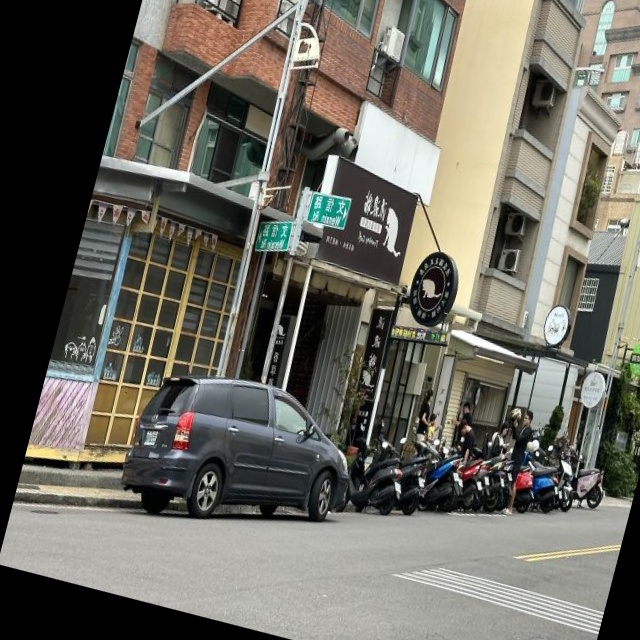Sin_Casco_Mascarrilla: (522, 409, 534, 427), (456, 418, 468, 436), (499, 420, 510, 439), (423, 388, 435, 404), (461, 400, 472, 416)
